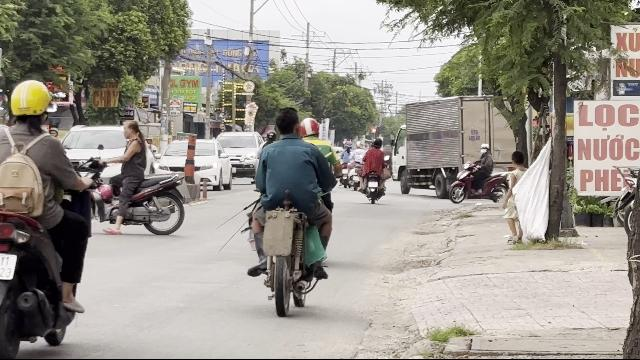helmet: (7, 79, 53, 129), (300, 117, 320, 137)
motorcyclist: (0, 77, 94, 359), (240, 109, 340, 315), (81, 114, 189, 240)
nohelmet: (274, 108, 300, 138), (119, 118, 143, 140)
